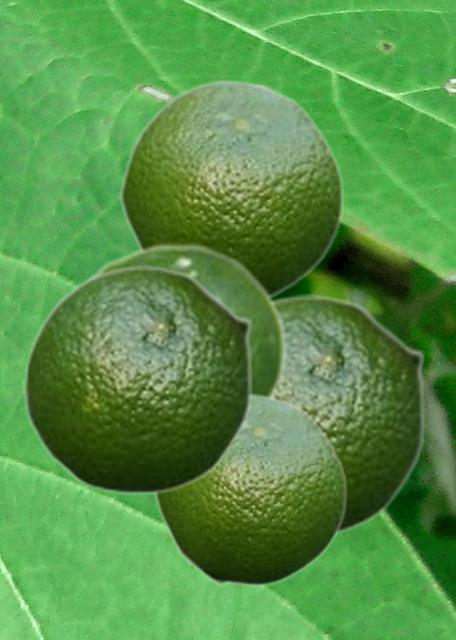calamansi: (23, 265, 253, 495), (118, 77, 344, 300), (153, 391, 347, 586), (274, 294, 426, 537), (87, 242, 287, 397)
